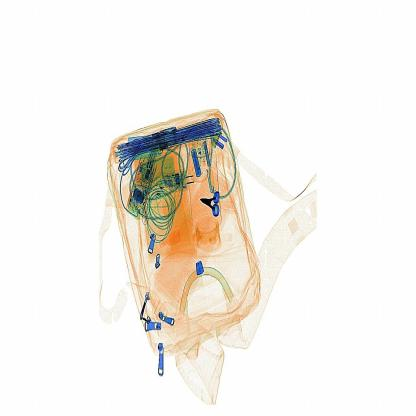gun: (200, 184, 226, 222)
